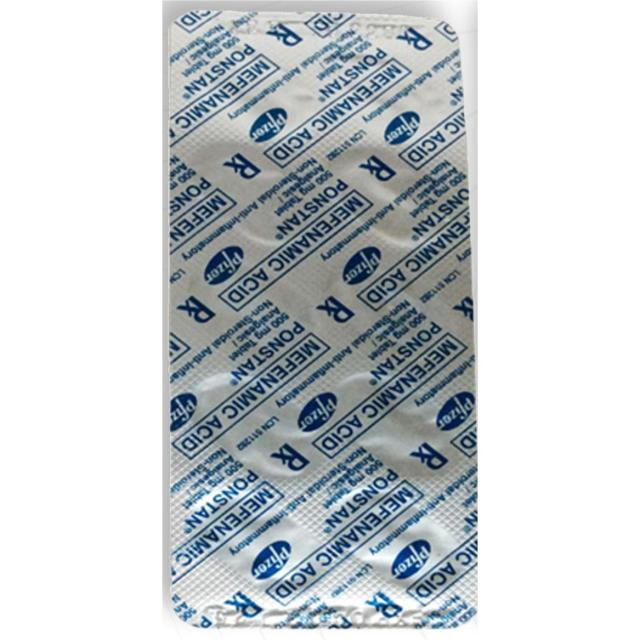blister: (166, 6, 479, 632)
